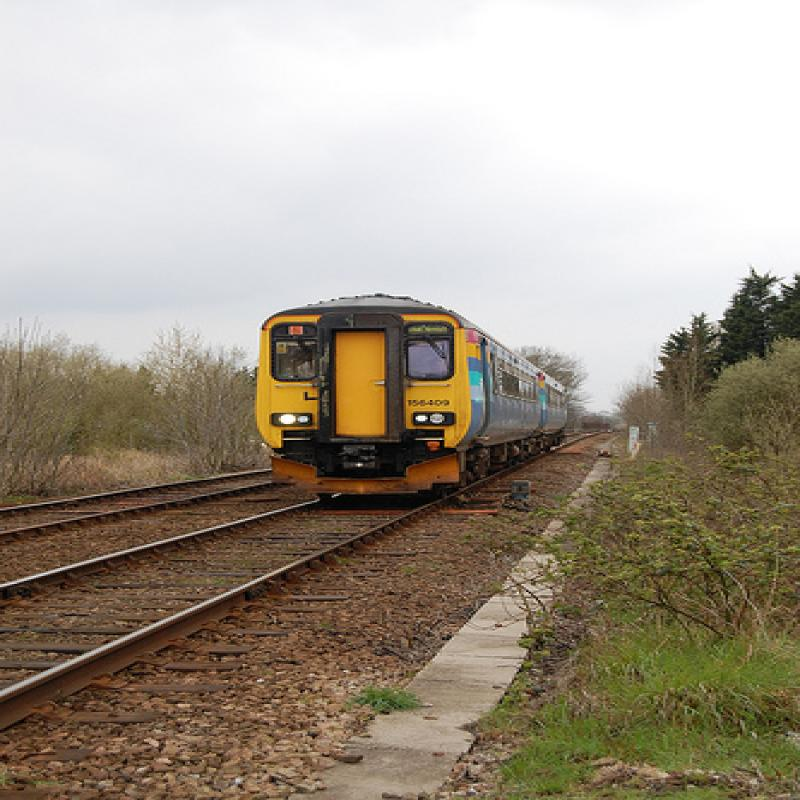train: (256, 288, 578, 507)
